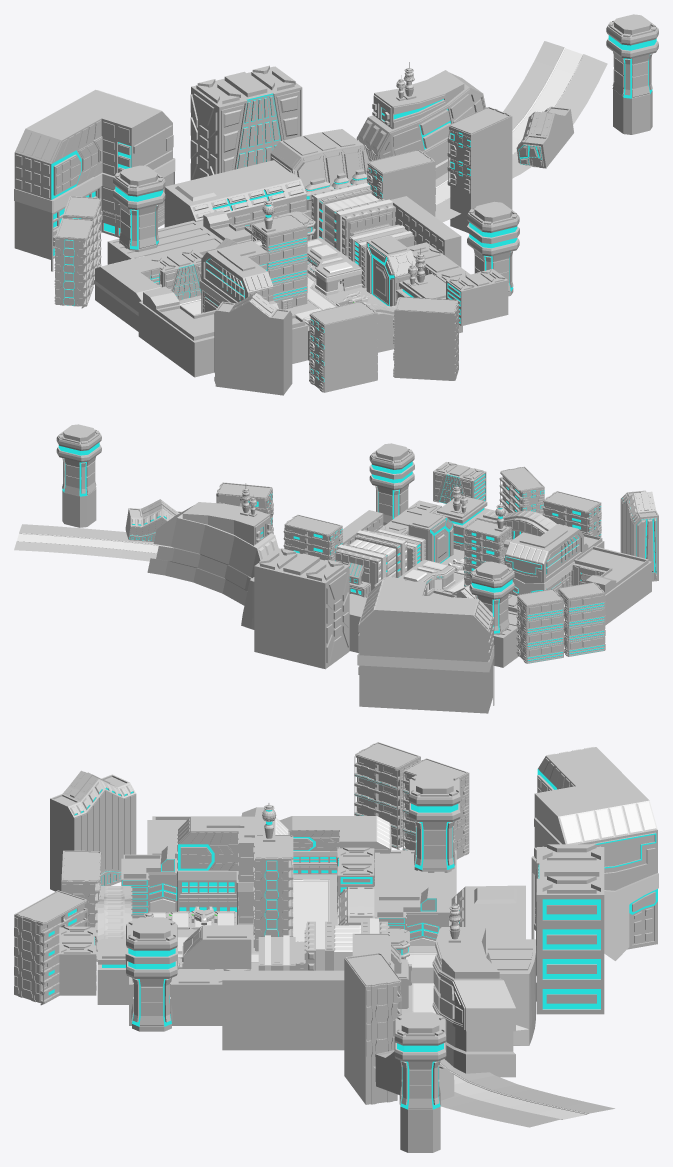
The model's file is cyber_city.glb.
The picture shows the model from 3 angles, top to bottom: view 1: azimuth 30°, elevation 25°; view 2: azimuth 150°, elevation 25°; view 3: azimuth 270°, elevation 25°; orthographic projection. The views are drawn at different scales.
Visible parts, largest first — view 1: Cube.026, Cube.064, Cube.031, Cube, Cube.029, Cube.019, Cube.062, Cube.012, Cube.049, Cube.066, Cube.041, Cube.005 (+19 smaller); view 2: Cube.026, Cube.031, Cube.064, Cube.005, Cube, Cube.041, Cube.066, Cube.010, Cube.024, Cube.014, Cube.028, Cube.029 (+16 smaller); view 3: Cube.026, Cube.064, Cube.031, Cube, Cube.025, Cube.005, Cube.029, Cube.062, Cube.066, Cube.036, Cube.049, Cube.028 (+19 smaller).
Boxes of the visible parts, x1=… form: Cube.026: x1=14, y1=89, x2=175, y2=271; Cube.064: x1=270, y1=70, x2=485, y2=218; Cube.031: x1=190, y1=65, x2=302, y2=180; Cube: x1=179, y1=41, x2=607, y2=326; Cube.029: x1=214, y1=293, x2=292, y2=395; Cube.019: x1=164, y1=160, x2=307, y2=231; Cube.062: x1=447, y1=107, x2=512, y2=232; Cube.012: x1=309, y1=301, x2=377, y2=392; Cube.049: x1=393, y1=297, x2=458, y2=380; Cube.066: x1=606, y1=14, x2=658, y2=134; Cube.041: x1=138, y1=286, x2=215, y2=377; Cube.005: x1=199, y1=241, x2=273, y2=313; Cube.026: x1=357, y1=580, x2=494, y2=713; Cube.031: x1=254, y1=548, x2=349, y2=669; Cube.064: x1=147, y1=502, x2=278, y2=629; Cube.005: x1=504, y1=524, x2=583, y2=595; Cube: x1=14, y1=524, x2=465, y2=591; Cube.041: x1=571, y1=546, x2=651, y2=625; Cube.066: x1=56, y1=424, x2=101, y2=527; Cube.010: x1=516, y1=589, x2=563, y2=663; Cube.024: x1=335, y1=530, x2=407, y2=597; Cube.014: x1=558, y1=582, x2=605, y2=656; Cube.028: x1=369, y1=443, x2=414, y2=525; Cube.029: x1=620, y1=490, x2=658, y2=581; Cube.026: x1=531, y1=747, x2=658, y2=960; Cube.064: x1=432, y1=927, x2=535, y2=1077; Cube.031: x1=536, y1=844, x2=604, y2=1014; Cube: x1=132, y1=874, x2=614, y2=1127; Cube.025: x1=222, y1=970, x2=344, y2=1050; Cube.005: x1=177, y1=816, x2=289, y2=924; Cube.029: x1=50, y1=770, x2=136, y2=891; Cube.062: x1=344, y1=953, x2=401, y2=1104; Cube.066: x1=394, y1=1012, x2=446, y2=1152; Cube.036: x1=375, y1=850, x2=456, y2=945; Cube.049: x1=14, y1=890, x2=87, y2=1005; Cube.028: x1=125, y1=917, x2=177, y2=1031.
Bounding box in the file's own units: 310 × 74.82 × 236.
